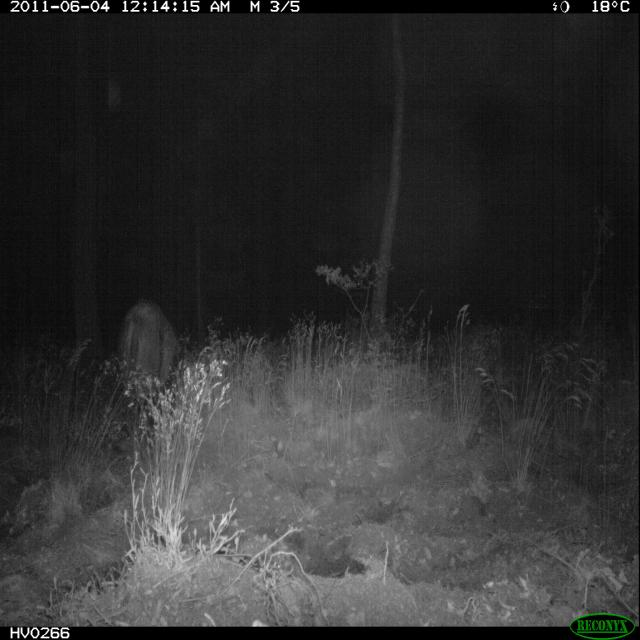boar: (82, 284, 200, 396)
